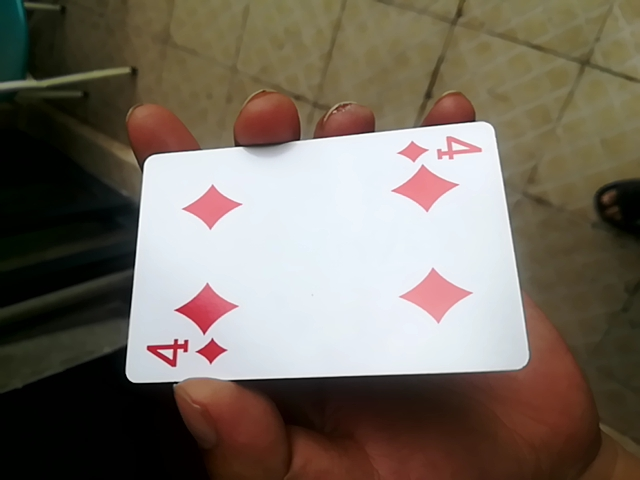fk 4: (127, 114, 527, 387)
